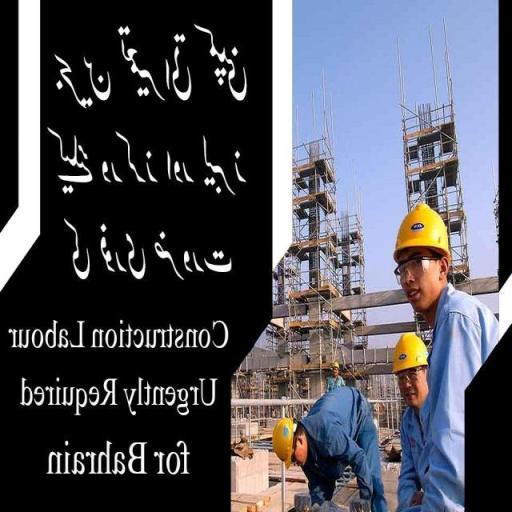helmet: (392, 201, 452, 259), (391, 331, 429, 372), (271, 414, 298, 469), (332, 360, 340, 369)
